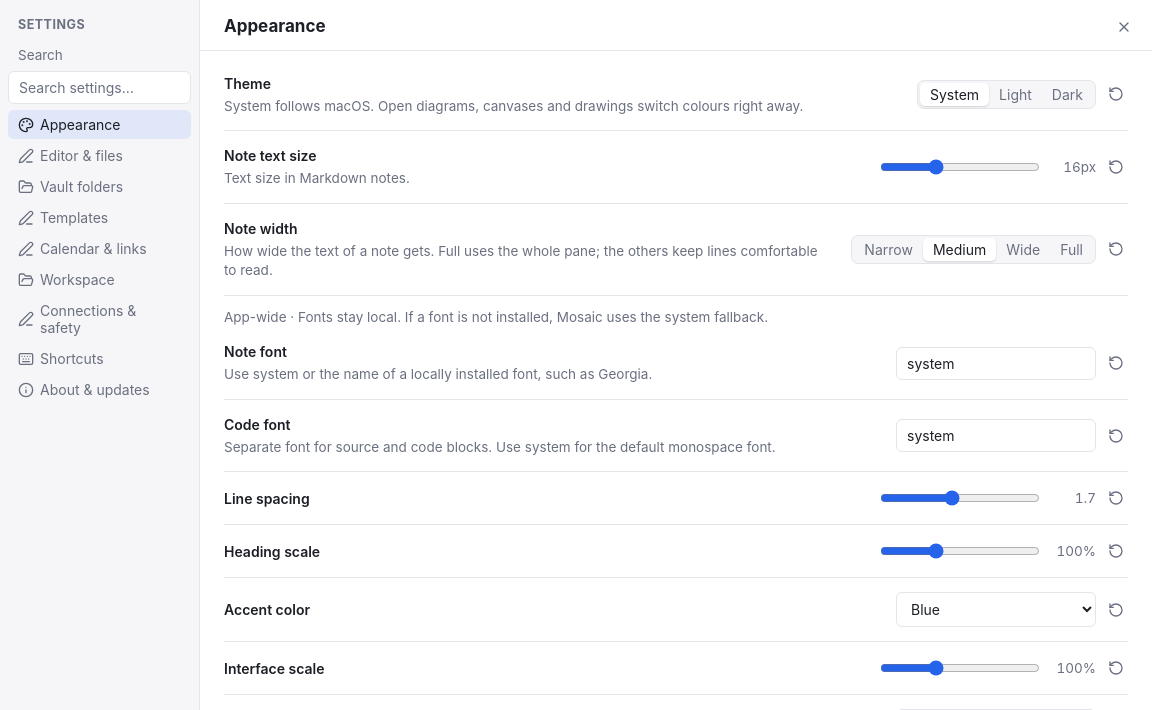
it: finds a setting and navigates to its section
Type "trash" into the field named "Search settings" at (100, 88), box 8,71 -> 191,104
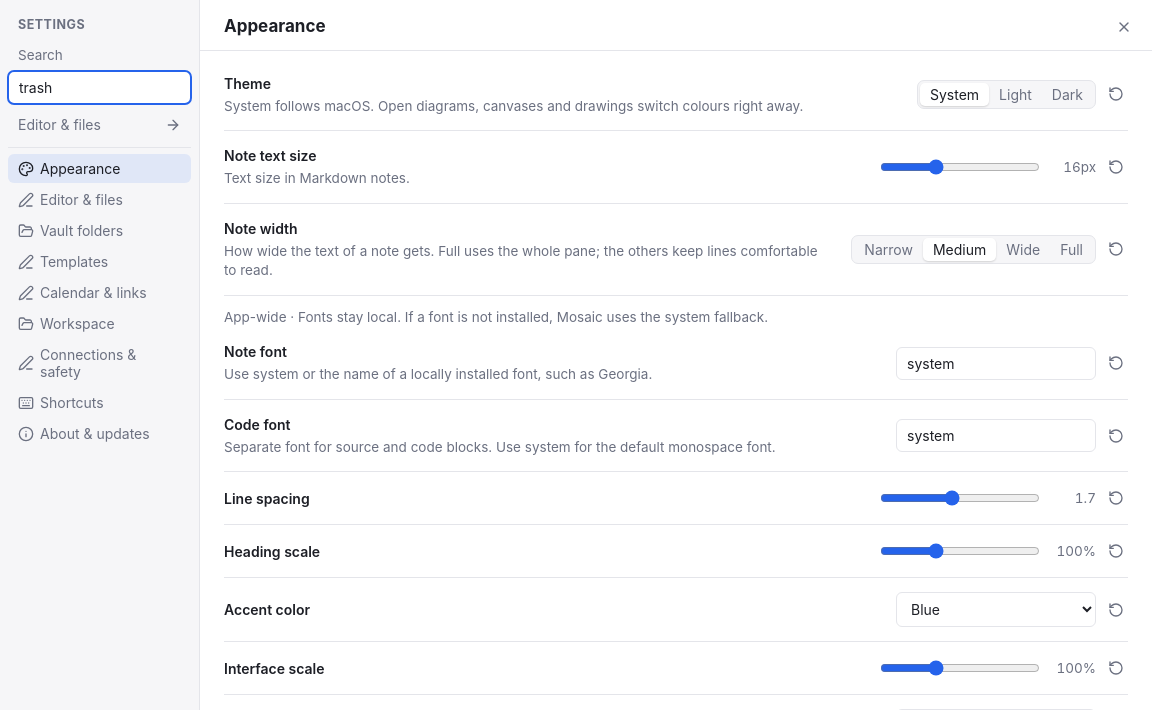
Click the 1st button "Editor & files" at (100, 124), box 8,110 -> 191,139
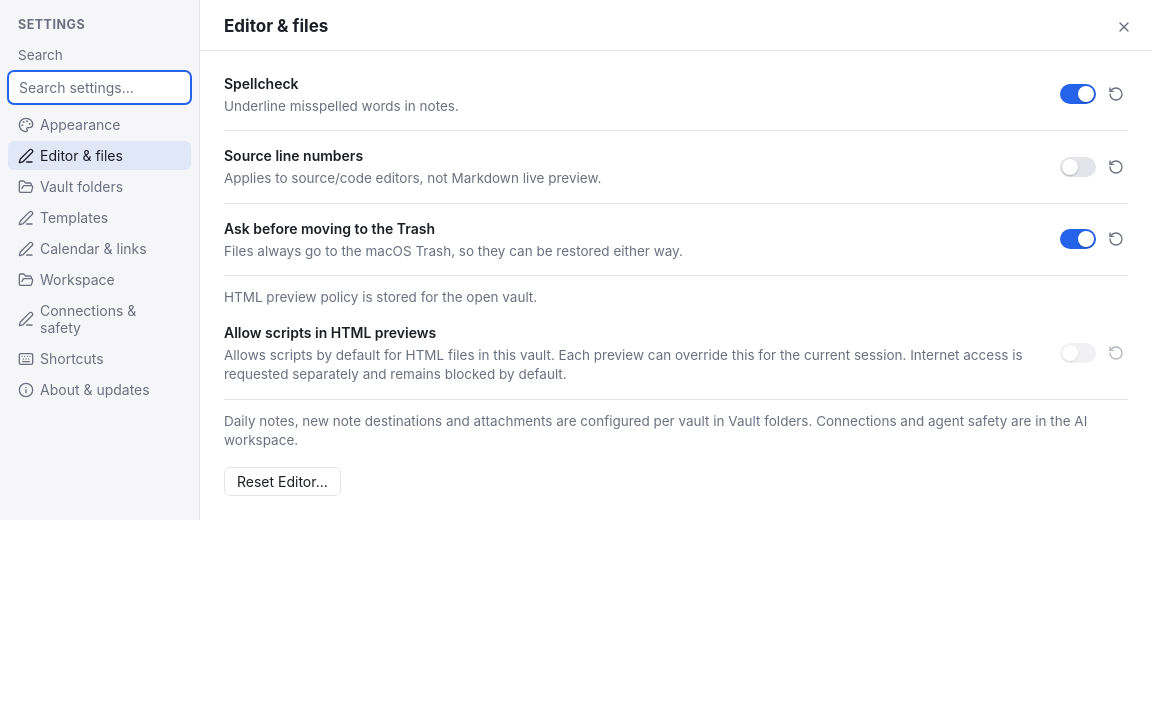
Expected: the heading "Editor & files" is shown, 224,14 -> 328,40
Expected: the switch named "Ask before moving to the Trash" is shown, 1060,229 -> 1096,249
